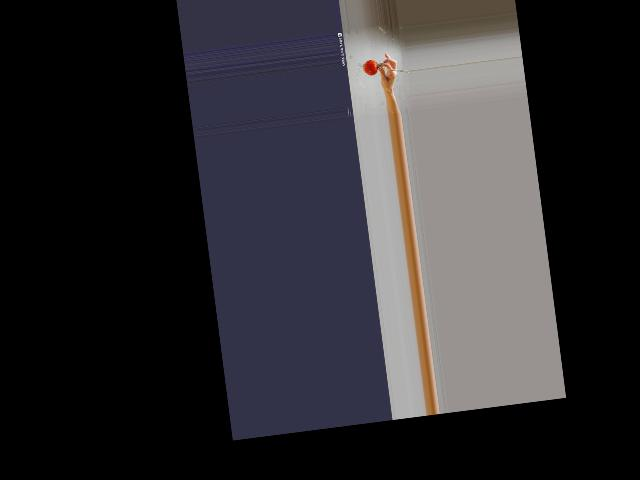tomato: (362, 60, 378, 77)
